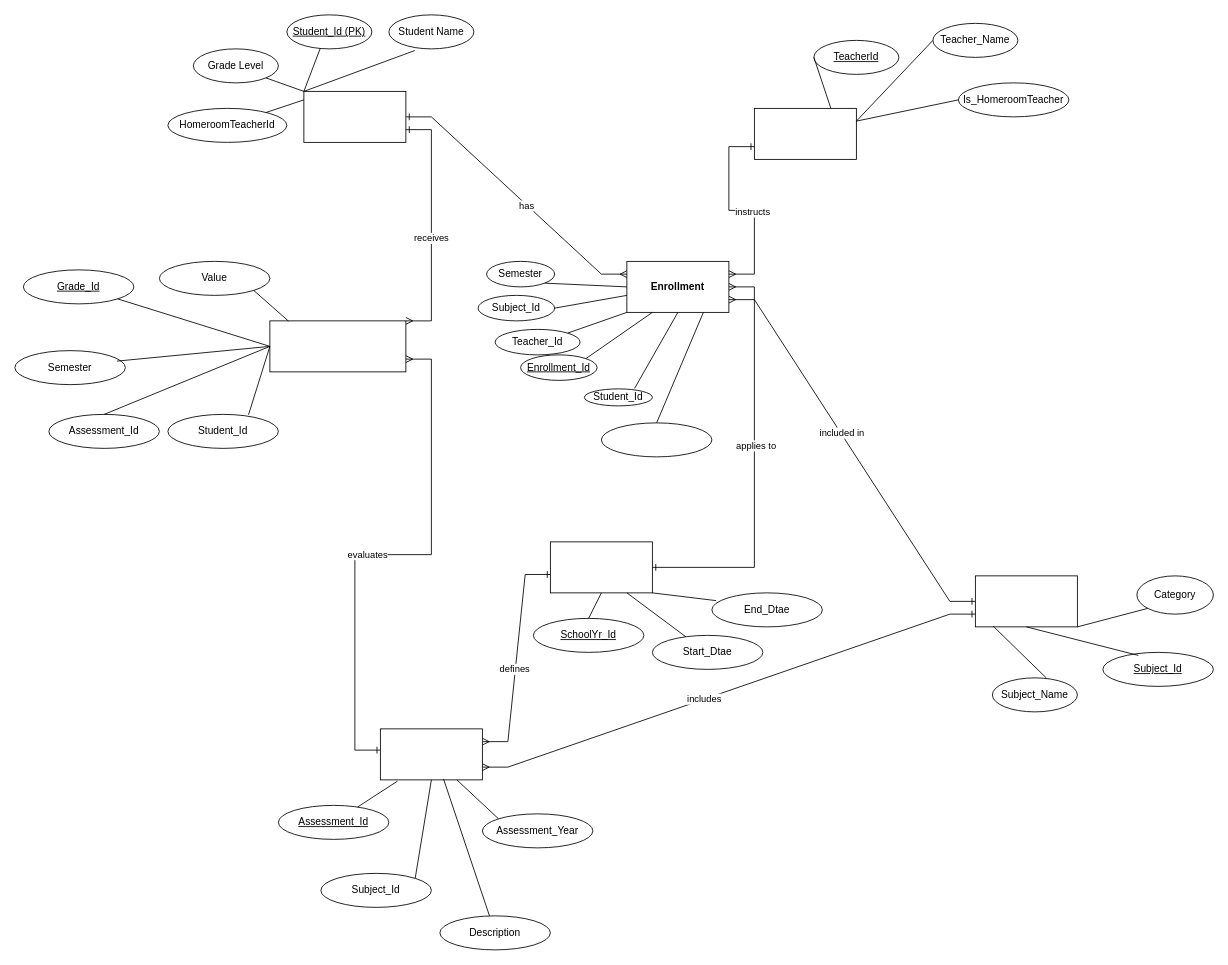
The diagram is 1228 pixels wide and 965 high, and some of its shapes have lost their labels. Here are the shapes that lost their labels. From the top down, the centre of each, then its label:
point (354, 116): Student
point (805, 133): Teacher
point (337, 346): Grade
point (656, 439): SchoolYear_Id
point (601, 567): School Year
point (1026, 601): Subject
point (431, 754): Assessment
